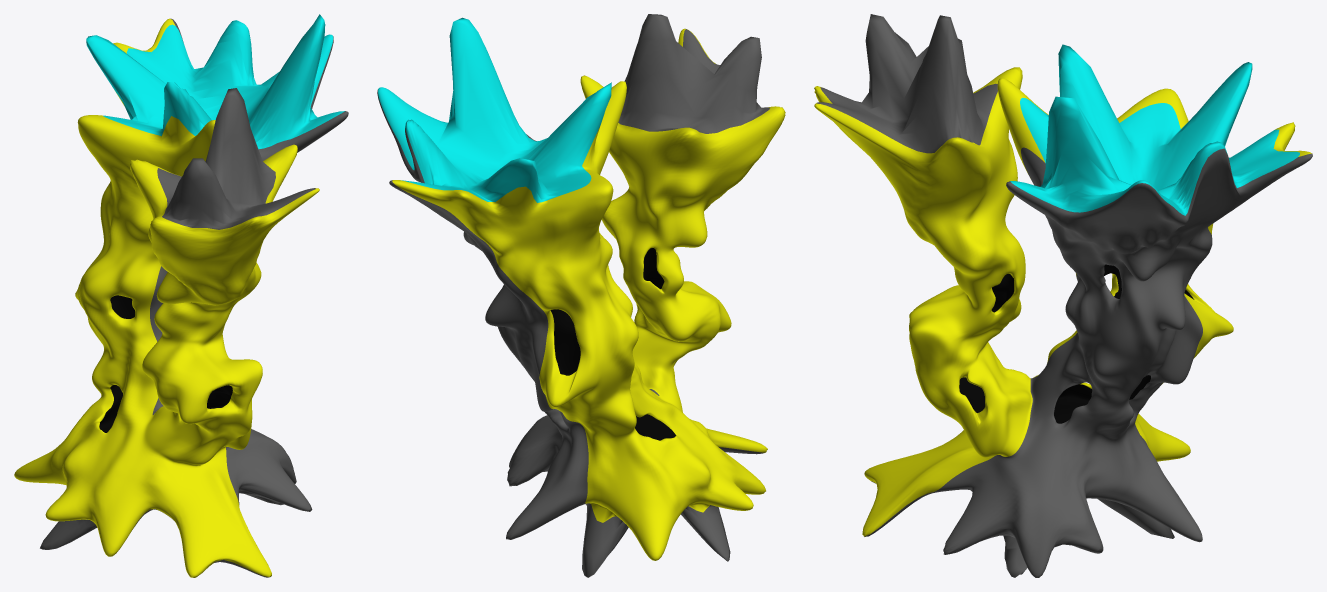
The model's file is Column_03.fbx.
3 views of the same model, side by side, from view 1: azimuth 30°, elevation 25°; view 2: azimuth 150°, elevation 25°; view 3: azimuth 270°, elevation 25° (orthographic). The views are drawn at different scales.
Visible parts, largest first — view 1: pCylinder3; view 2: pCylinder3; view 3: pCylinder3.
Part boxes in pixels (x1=…): pCylinder3: x1=14, y1=14, x2=348, y2=577; pCylinder3: x1=377, y1=14, x2=785, y2=577; pCylinder3: x1=814, y1=14, x2=1312, y2=577.
Size of the model in its own units: 14.22 by 16.56 by 19.71.
